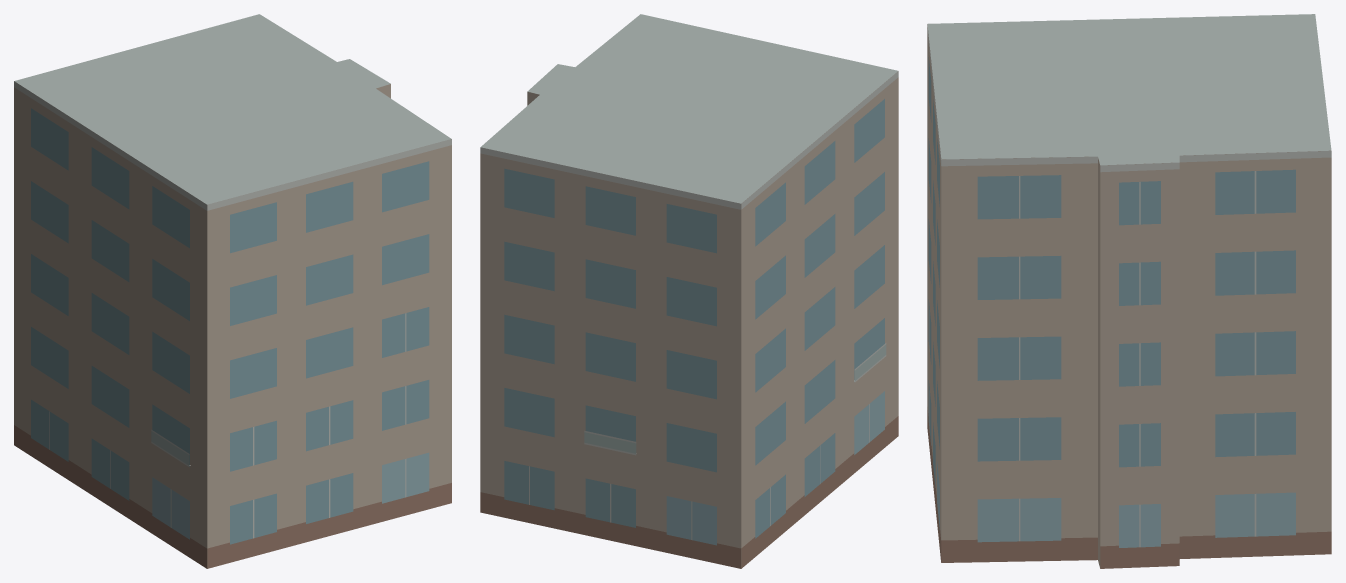
Rendered from survey-upis-32928919.glb.
The picture shows the model from 3 angles, left to right: view 1: azimuth 30°, elevation 25°; view 2: azimuth 150°, elevation 25°; view 3: azimuth 270°, elevation 25°; orthographic projection. The views are drawn at different scales.
Parts seen in each view (by area): view 1: survey-upis-32928919.tmp; view 2: survey-upis-32928919.tmp; view 3: survey-upis-32928919.tmp.
Part boxes in pixels (x1,y1,x2,y2): survey-upis-32928919.tmp: [14, 14, 451, 568]; survey-upis-32928919.tmp: [480, 14, 898, 568]; survey-upis-32928919.tmp: [927, 14, 1331, 568].
Size of the model in its own units: 11.64 by 14.45 by 13.13.
